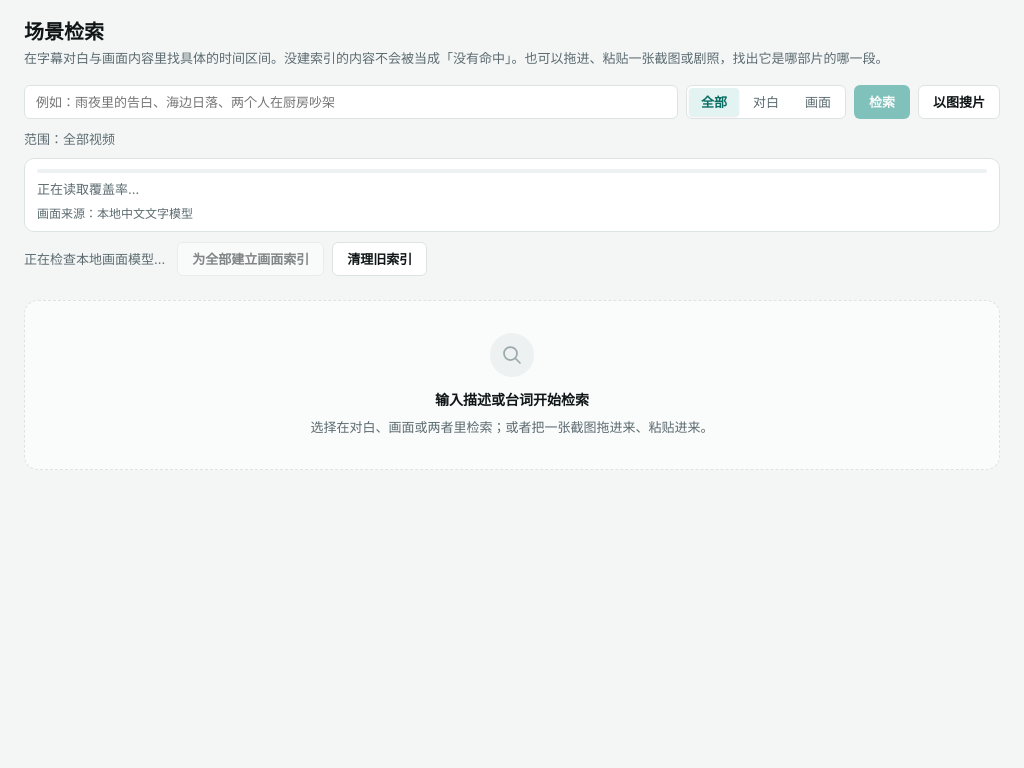
it: 场景检索页：加载更多 › 没有截断时不出加载更多，每部写「N 处」
This screenshot has width=1024, height=768.
Step 1. Type "句" into the search field with test id "scenes-query" → (351, 102), box x1=24 y1=84 x2=678 y2=118
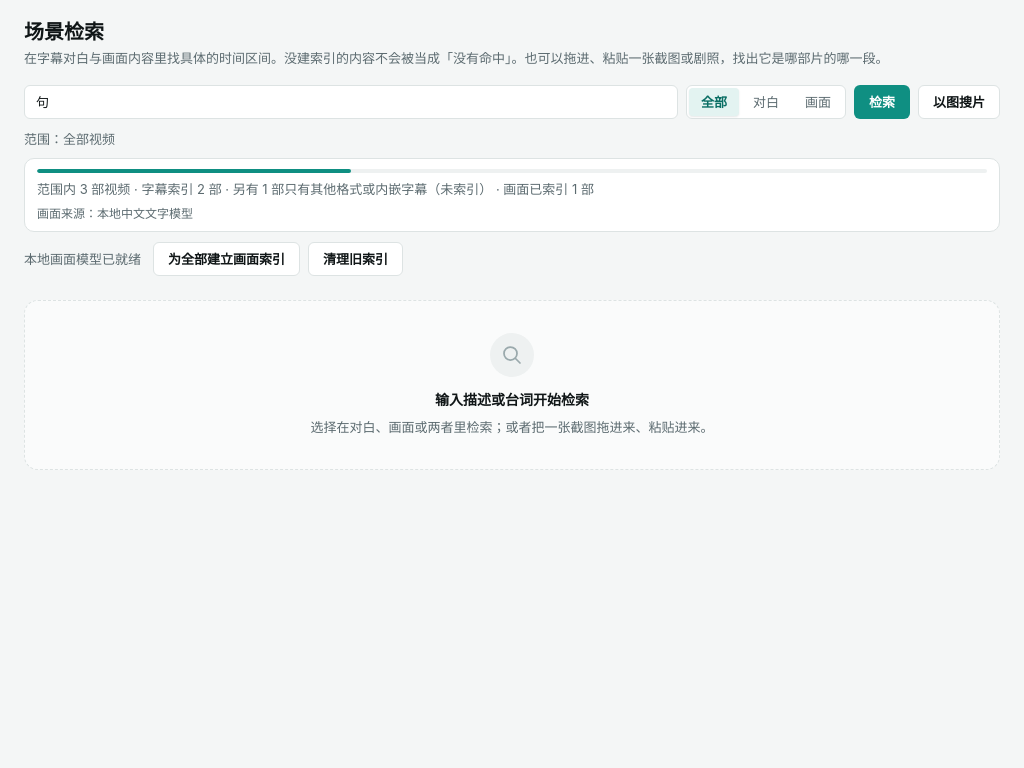
Step 2. Submit the form with test id "scenes-search-form", box x1=24 y1=84 x2=1000 y2=118
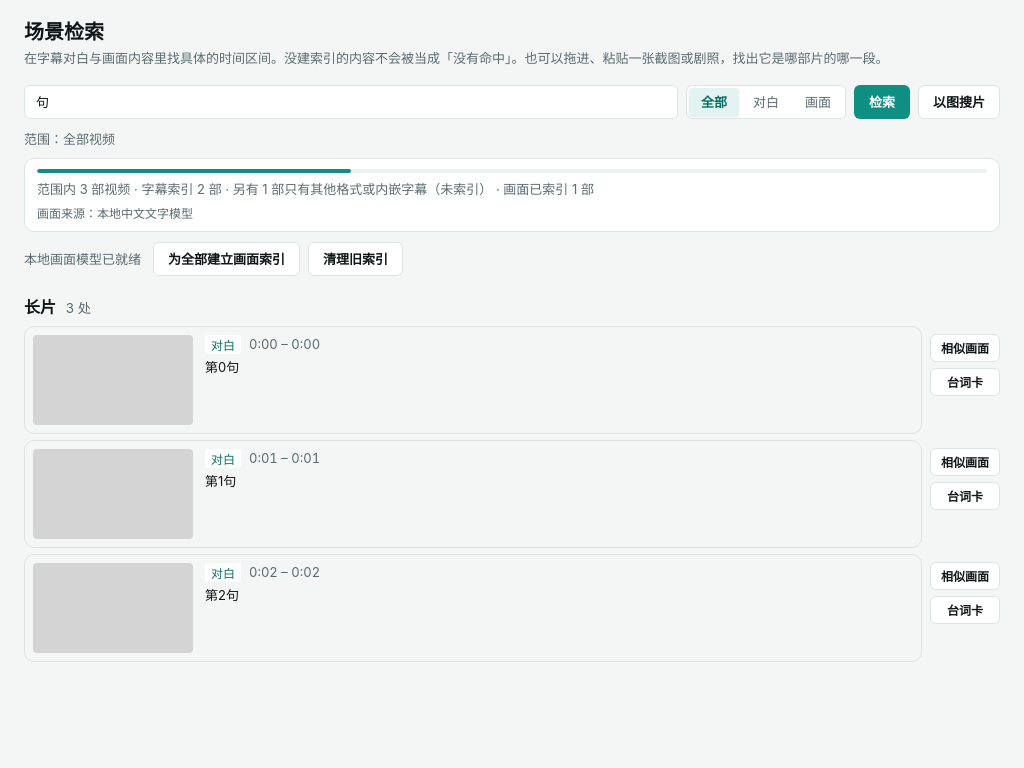
Now the text with test id "scenes-count-7" reads "3 处", box x1=66 y1=300 x2=91 y2=316
